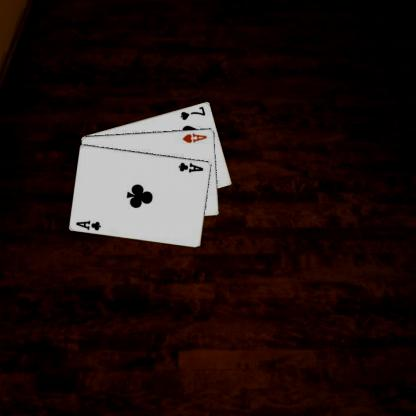7S: (178, 103, 206, 121)
AC: (74, 218, 102, 232), (176, 160, 204, 173)
AH: (180, 130, 208, 144)
